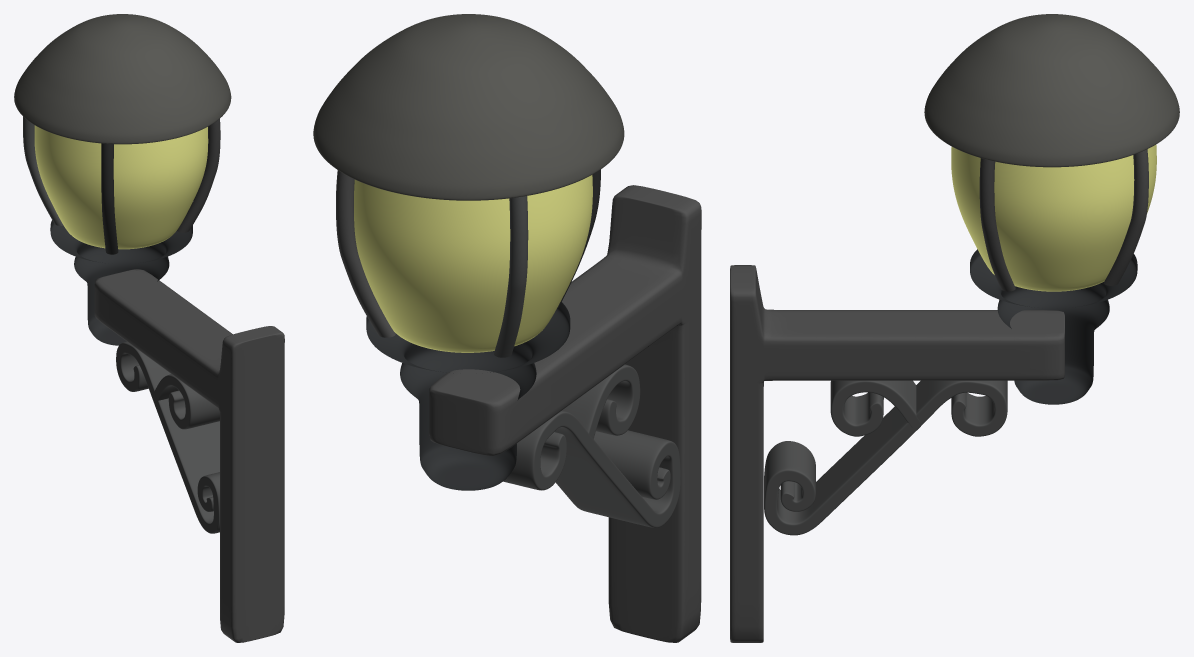
File: Lampara4.fbx
3 views of the same model, side by side, from view 1: azimuth 30°, elevation 25°; view 2: azimuth 150°, elevation 25°; view 3: azimuth 270°, elevation 25° (orthographic). The views are drawn at different scales.
Parts seen in each view (by area): view 1: Cube, Circle.006, Cylinder, Cube.001, Circle.005, Circle.004, Circle.003, Circle.001; view 2: Cube, Circle.006, Cylinder, Cube.001, Circle.005, Circle.002, Circle.001, Circle.004; view 3: Cube, Circle.006, Cylinder, Cube.001, Circle.005, Circle.002, Circle.003.
Part boxes in pixels (left/top/right/bottom): Cube: left=94, top=269, right=284, bottom=642; Circle.006: left=14, top=14, right=231, bottom=144; Cylinder: left=34, top=125, right=208, bottom=249; Cube.001: left=116, top=341, right=219, bottom=533; Circle.005: left=50, top=220, right=192, bottom=345; Circle.004: left=101, top=143, right=118, bottom=254; Circle.003: left=177, top=119, right=220, bottom=232; Circle.001: left=23, top=116, right=63, bottom=225; Cube: left=429, top=185, right=701, bottom=642; Circle.006: left=313, top=14, right=624, bottom=200; Cylinder: left=354, top=175, right=592, bottom=352; Cube.001: left=503, top=364, right=680, bottom=527; Circle.005: left=366, top=302, right=570, bottom=490; Circle.002: left=336, top=170, right=395, bottom=337; Circle.001: left=494, top=196, right=528, bottom=357; Circle.004: left=557, top=169, right=600, bottom=308; Cube: left=730, top=265, right=1064, bottom=642; Circle.006: left=924, top=14, right=1179, bottom=167; Cylinder: left=951, top=144, right=1156, bottom=291; Cube.001: left=764, top=380, right=1007, bottom=535; Circle.005: left=970, top=249, right=1137, bottom=404; Circle.002: left=1104, top=149, right=1148, bottom=285; Circle.003: left=979, top=158, right=1015, bottom=291.
Bounding box in the file's own units: 122 × 320 × 215.
